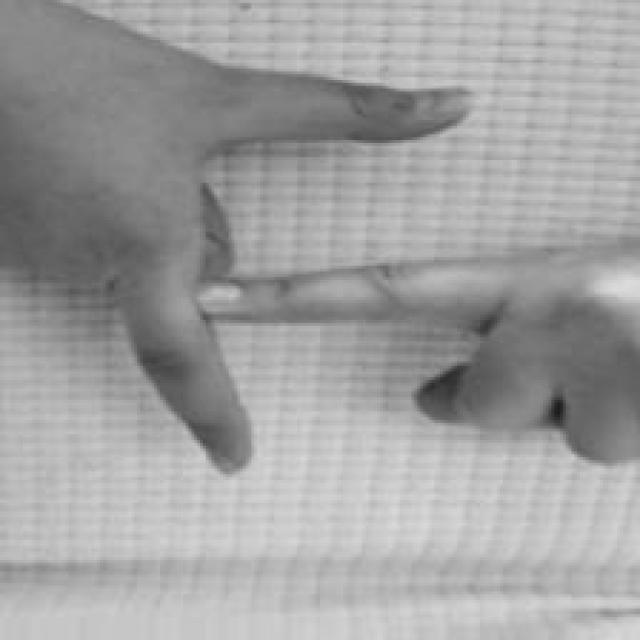F: (1, 1, 640, 478)
